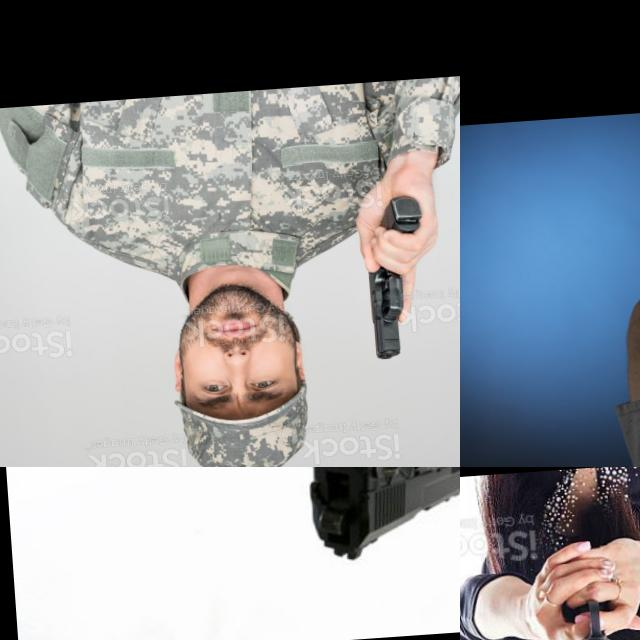handgun: (299, 467, 460, 567), (359, 192, 432, 362), (566, 589, 618, 640)
